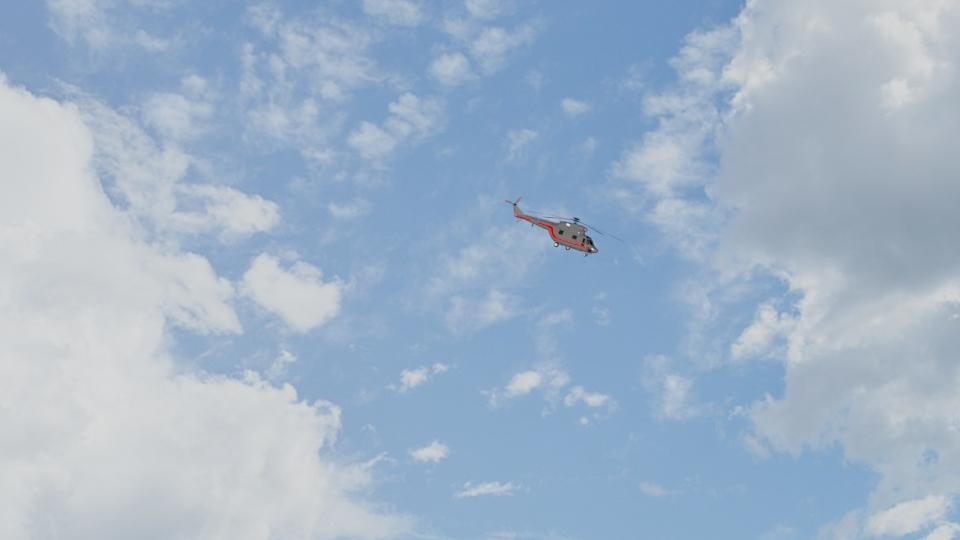heli: (504, 195, 605, 257)
